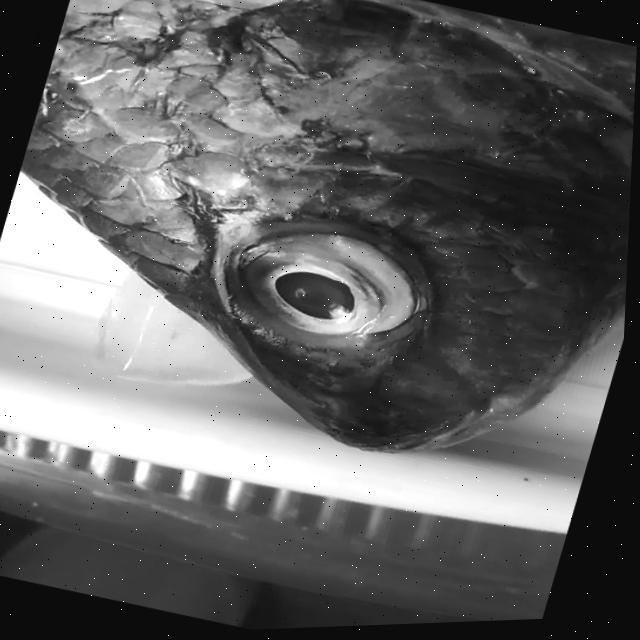Fresh: (176, 137, 465, 388)
